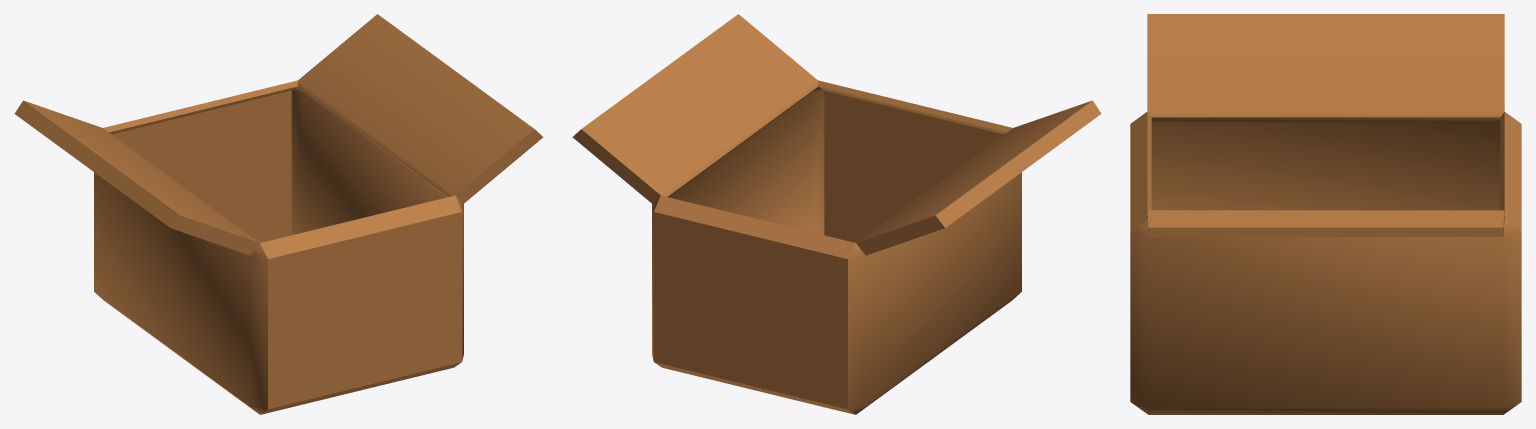
The picture shows the model from 3 angles, left to right: view 1: azimuth 30°, elevation 25°; view 2: azimuth 150°, elevation 25°; view 3: azimuth 270°, elevation 25°; orthographic projection. The views are drawn at different scales.
Visible parts, largest first — view 1: box4; view 2: box4; view 3: box4.
Boxes of the visible parts, x1=… form: box4: x1=14, y1=14, x2=543, y2=414; box4: x1=572, y1=14, x2=1101, y2=414; box4: x1=1130, y1=14, x2=1521, y2=414.
Bounding box in the file's own units: 260 × 146 × 208.
